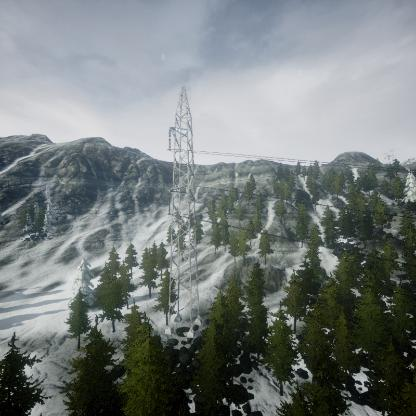tower: (165, 85, 204, 338)
